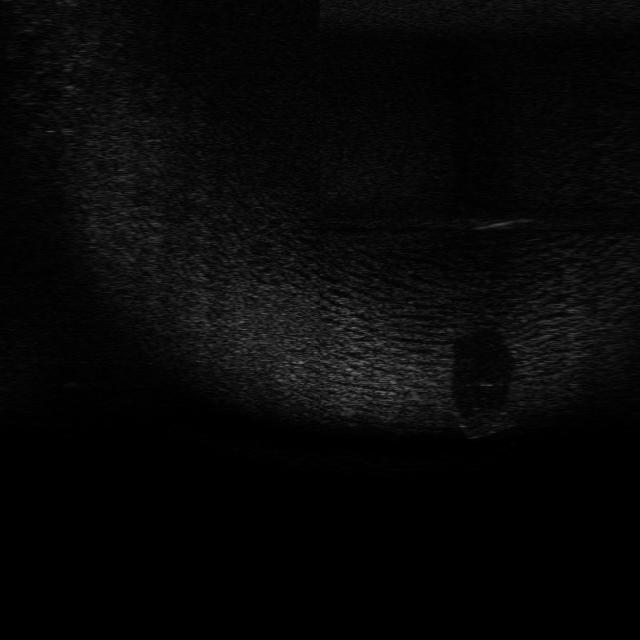cube: (453, 400, 517, 441)
